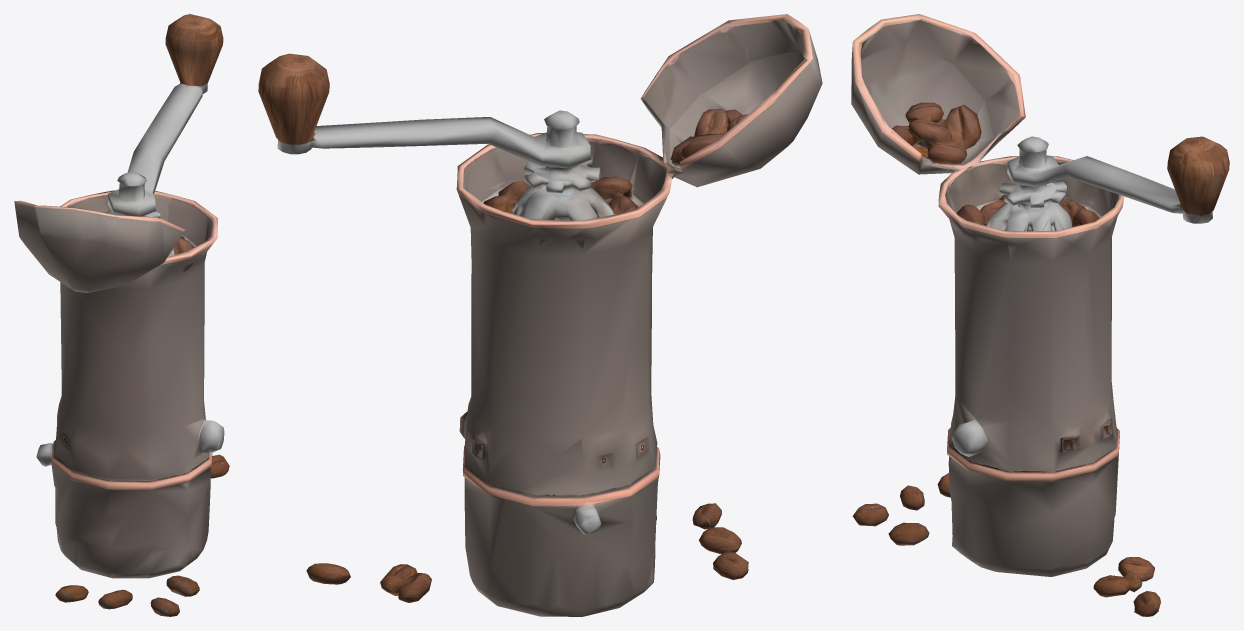
File: grind_size.glb
The picture shows the model from 3 angles, left to right: view 1: azimuth 30°, elevation 25°; view 2: azimuth 150°, elevation 25°; view 3: azimuth 270°, elevation 25°; orthographic projection. The views are drawn at different scales.
Parts seen in each view (by area): view 1: Mesh1.0; view 2: Mesh1.0; view 3: Mesh1.0.
Boxes of the visible parts, bbox=[...] form: Mesh1.0: bbox=[14, 14, 229, 616]; Mesh1.0: bbox=[258, 14, 822, 616]; Mesh1.0: bbox=[851, 14, 1229, 616].
Bounding box in the file's own units: 1.43 × 1.91 × 1.38.
1 material, 1 textured.
